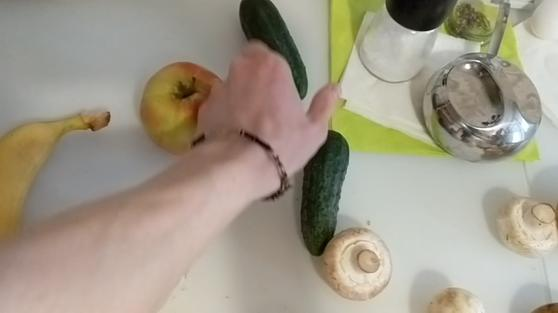banana: (1, 108, 110, 250)
champignon: (325, 229, 394, 300), (497, 195, 558, 256), (427, 285, 483, 313)
cucumber: (240, 1, 309, 102), (301, 129, 349, 258)
